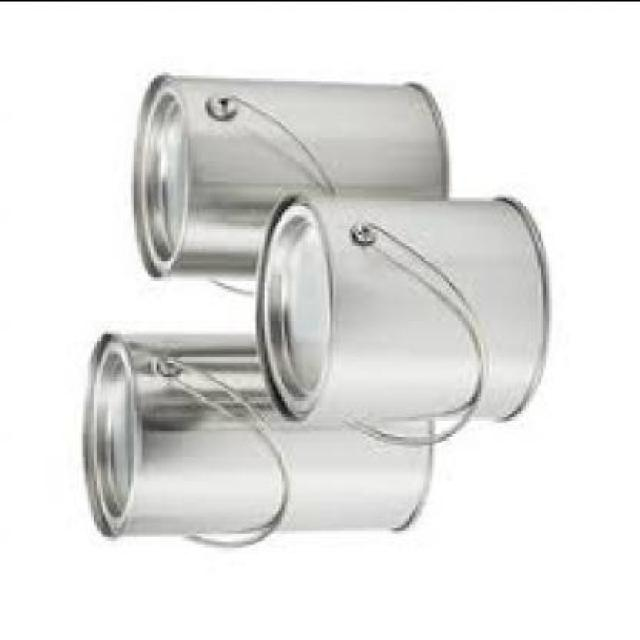METAL: (77, 325, 432, 543), (253, 191, 549, 440), (131, 75, 446, 293)
